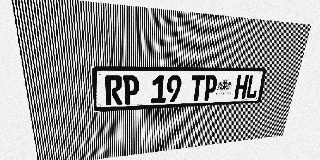1: (151, 75, 167, 103)
9: (166, 75, 182, 102)
H: (234, 75, 249, 99)
L: (245, 75, 260, 99)
P: (123, 75, 139, 105), (203, 75, 218, 101)
R: (105, 75, 122, 105)
T: (189, 75, 205, 101)
